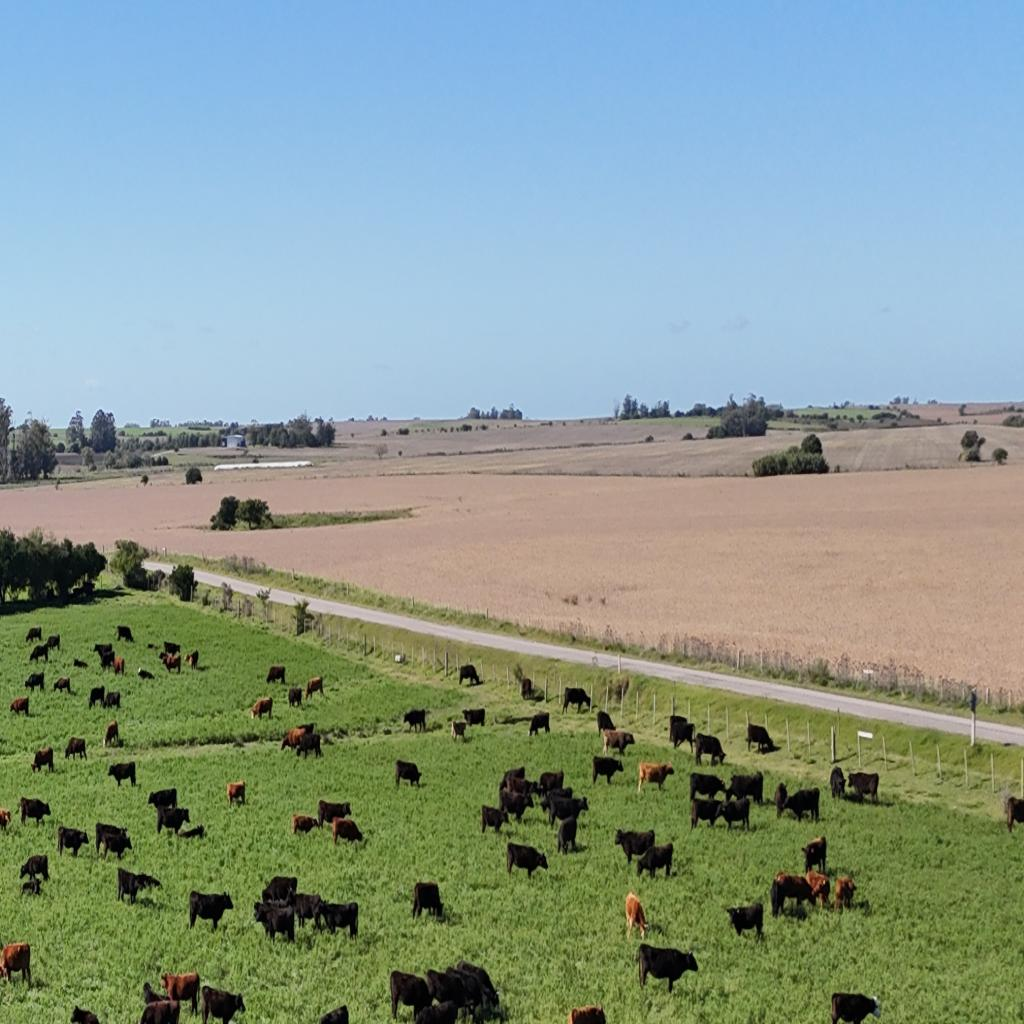cow: (638, 943, 698, 995), (451, 960, 499, 1017), (390, 970, 434, 1021), (771, 873, 818, 919), (188, 889, 234, 933), (252, 900, 296, 944), (160, 971, 201, 1017), (201, 984, 247, 1024), (316, 899, 360, 939), (117, 867, 161, 906), (830, 991, 880, 1024), (724, 900, 764, 940), (615, 828, 655, 868), (506, 842, 548, 880), (780, 787, 820, 825), (0, 941, 31, 990), (636, 842, 674, 881), (549, 793, 588, 829), (727, 771, 764, 807), (412, 881, 444, 922), (717, 796, 751, 834), (291, 892, 323, 930), (625, 890, 649, 940), (846, 770, 879, 806), (98, 827, 133, 860), (690, 797, 723, 832), (694, 732, 726, 768), (638, 761, 672, 794), (498, 787, 530, 822), (57, 824, 89, 858), (140, 997, 180, 1024), (156, 805, 189, 837), (414, 1000, 458, 1024), (801, 834, 827, 874), (318, 799, 352, 829), (261, 875, 297, 903), (602, 728, 635, 758), (691, 772, 726, 800), (556, 816, 580, 856), (540, 788, 568, 822), (668, 714, 694, 750), (592, 756, 623, 786), (19, 796, 51, 825), (746, 722, 774, 755), (20, 854, 50, 884), (332, 817, 364, 845), (834, 875, 856, 914), (394, 759, 422, 789), (481, 804, 507, 836), (503, 774, 535, 799), (562, 687, 591, 714), (1004, 795, 1024, 833), (280, 727, 309, 753), (568, 1004, 605, 1024), (108, 761, 136, 787), (295, 733, 321, 760), (538, 769, 564, 796), (148, 788, 176, 811), (403, 708, 427, 734), (30, 747, 54, 773), (142, 982, 168, 1006), (318, 1004, 349, 1024), (64, 736, 87, 762), (94, 823, 112, 856), (291, 815, 319, 836), (770, 877, 784, 919), (226, 780, 246, 808), (70, 1006, 101, 1024), (250, 696, 272, 721), (830, 766, 846, 800), (501, 766, 525, 788), (529, 712, 550, 737), (774, 781, 788, 817), (458, 664, 480, 686), (20, 875, 42, 897), (304, 676, 324, 700), (462, 708, 486, 728), (596, 710, 615, 734), (178, 823, 206, 839), (88, 686, 106, 710), (266, 665, 286, 686), (24, 672, 45, 692), (104, 720, 119, 748), (29, 644, 50, 664), (10, 696, 30, 716), (55, 825, 68, 855), (162, 653, 180, 674), (450, 720, 467, 742), (52, 677, 72, 695), (115, 625, 134, 643), (93, 642, 112, 660), (105, 691, 121, 711), (100, 652, 116, 672), (293, 723, 314, 738), (288, 687, 302, 709), (520, 678, 534, 700), (26, 626, 43, 644), (162, 642, 180, 658), (0, 808, 11, 834), (46, 634, 61, 653), (185, 651, 199, 670), (113, 656, 125, 676), (137, 668, 154, 680), (30, 758, 40, 774), (73, 658, 88, 668), (146, 642, 158, 650)
